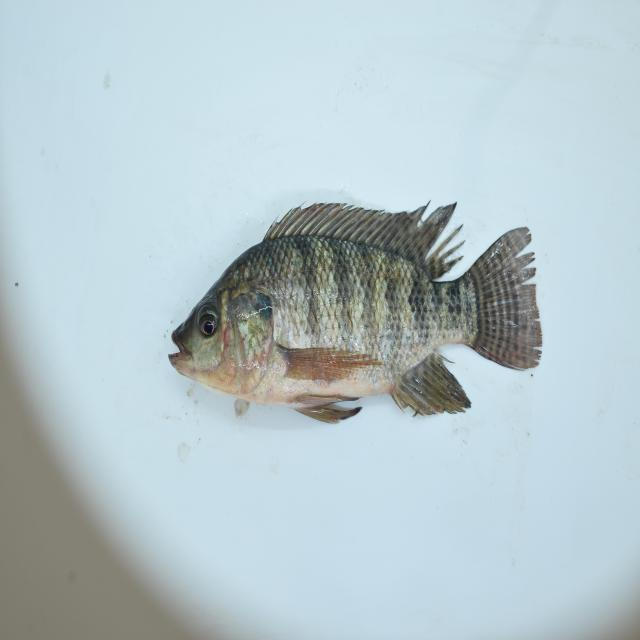Columnaris Disease: (143, 192, 572, 433)
